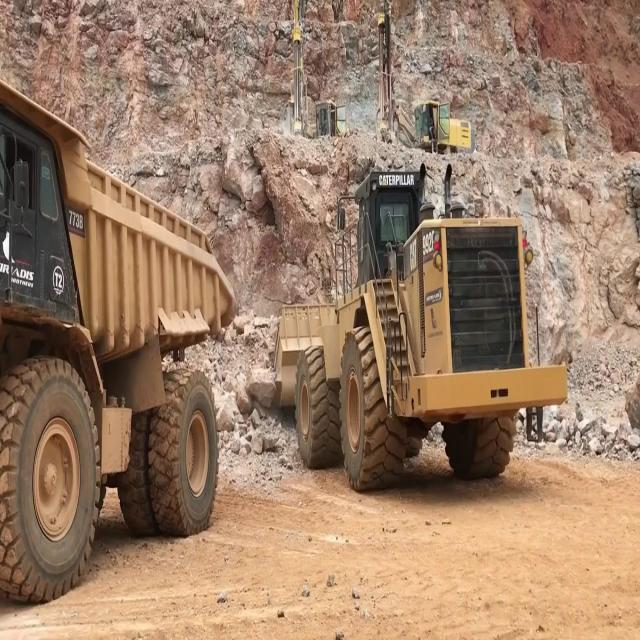Dump Truck: (0, 75, 239, 609)
Loader: (269, 156, 566, 494)
